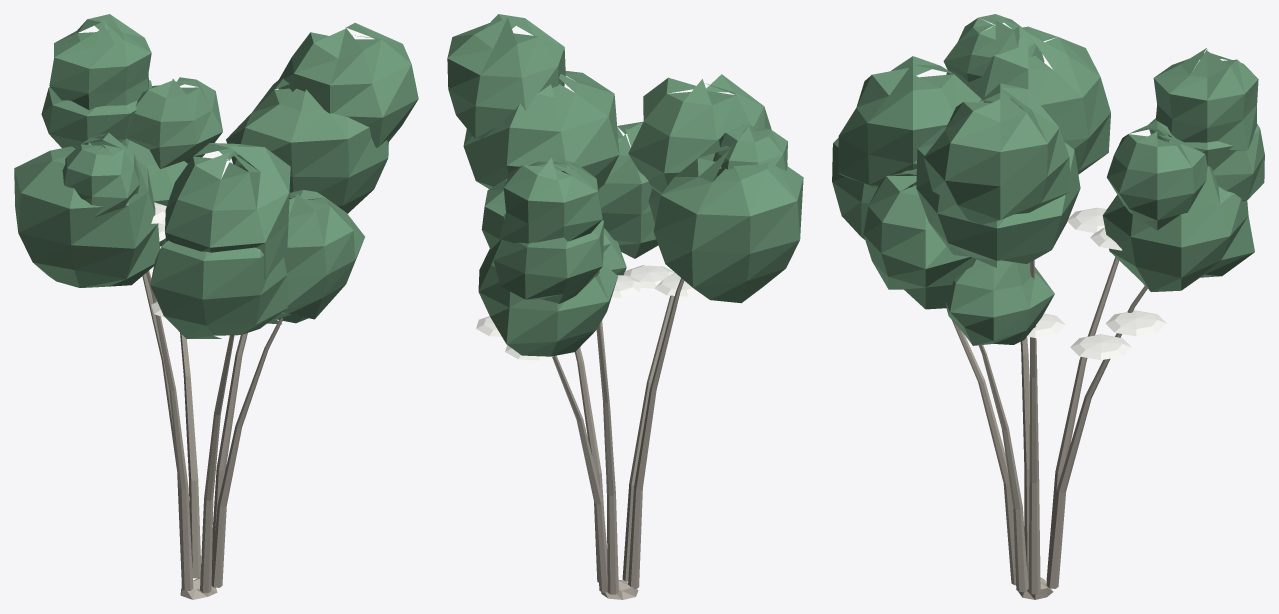
File: temperate-forest-ecology-elder-shrub-055a3e4c__3798.glb
The picture shows the model from 3 angles, left to right: view 1: azimuth 30°, elevation 25°; view 2: azimuth 150°, elevation 25°; view 3: azimuth 270°, elevation 25°; orthographic projection. The views are drawn at different scales.
Parts seen in each view (by area): view 1: elder-shrub; view 2: elder-shrub; view 3: elder-shrub.
Boxes of the visible parts, x1=… form: elder-shrub: x1=14, y1=14, x2=418, y2=599; elder-shrub: x1=447, y1=14, x2=803, y2=599; elder-shrub: x1=832, y1=14, x2=1264, y2=599.
Size of the model in its own units: 4.08 by 5.74 by 3.95.
